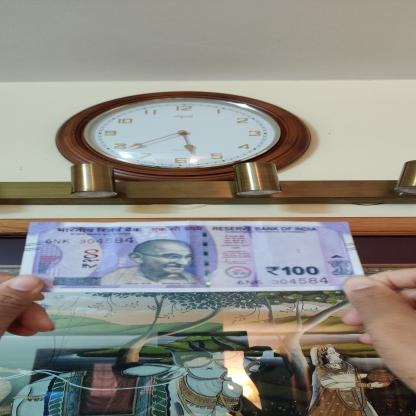New100Front: (18, 220, 367, 294)
